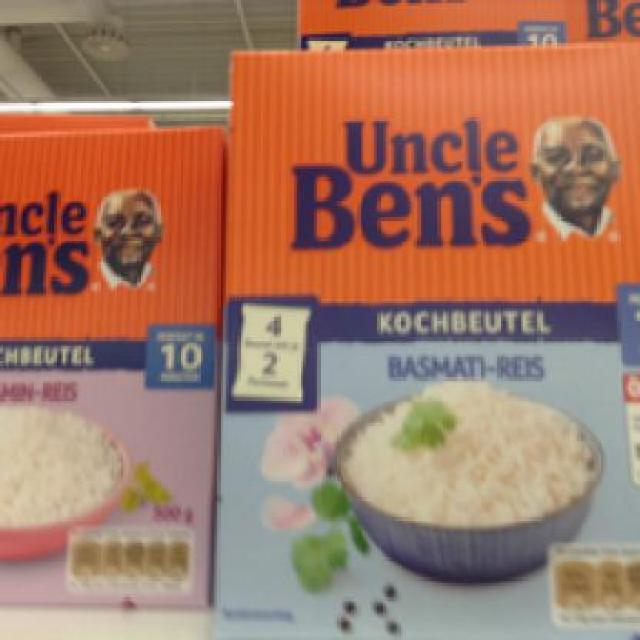Rice: (214, 45, 632, 638), (0, 120, 223, 609)
